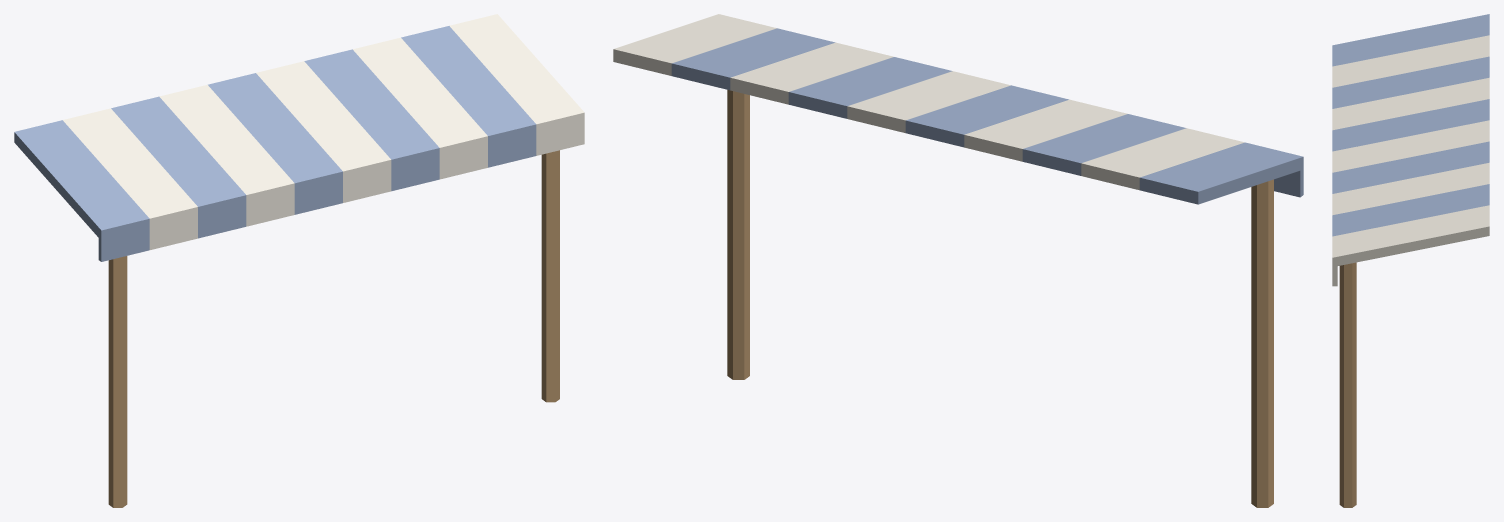
File: awning_w4_8_brick.glb
The picture shows the model from 3 angles, left to right: view 1: azimuth 30°, elevation 25°; view 2: azimuth 150°, elevation 25°; view 3: azimuth 270°, elevation 25°; orthographic projection. The views are drawn at different scales.
Visible parts, largest first — view 1: Player; view 2: Player; view 3: Player.
Part boxes in pixels (x1,y1,x2,y2): Player: [14, 14, 584, 507]; Player: [613, 14, 1303, 507]; Player: [1332, 14, 1489, 507].
Bounding box in the file's own units: 4.8 × 3.05 × 1.5.
